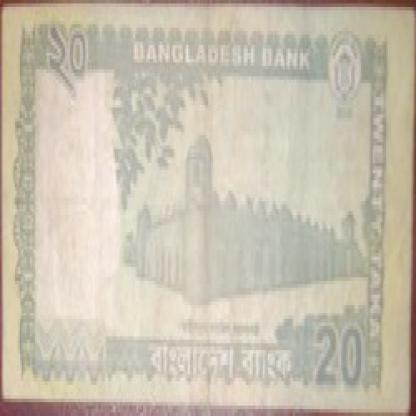Twenty: (303, 319, 378, 412), (33, 17, 105, 108)
